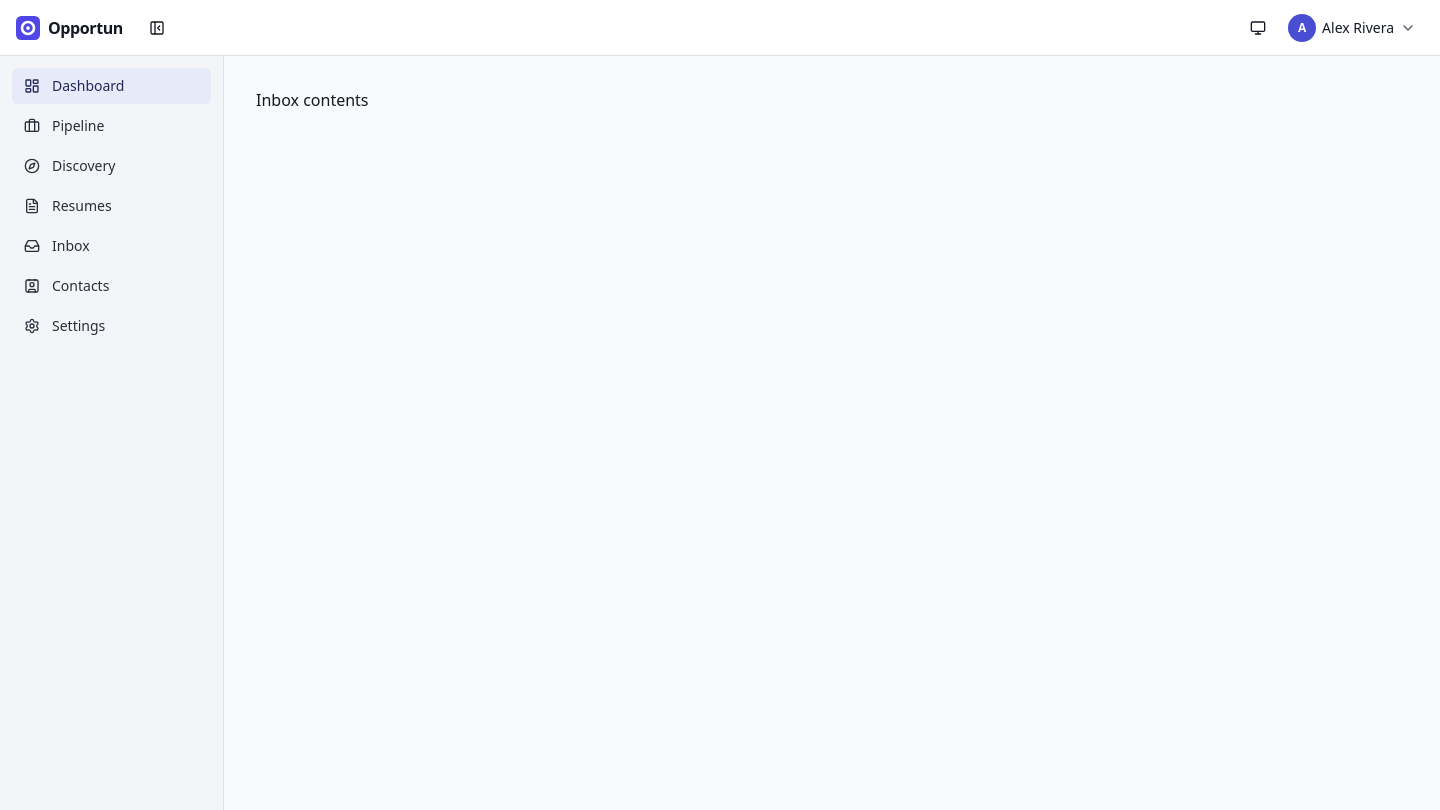
it: AppShell account menu sign-out (issue #151) › stays signed in and says so, rather than leaving for a logout the server never confirmed
Expected: the navigation bar named "Main" is shown, [0, 56, 224, 809]
Click the button with aria-label "Account:". click: coordinates (1352, 28)
box: [1280, 10, 1424, 46]
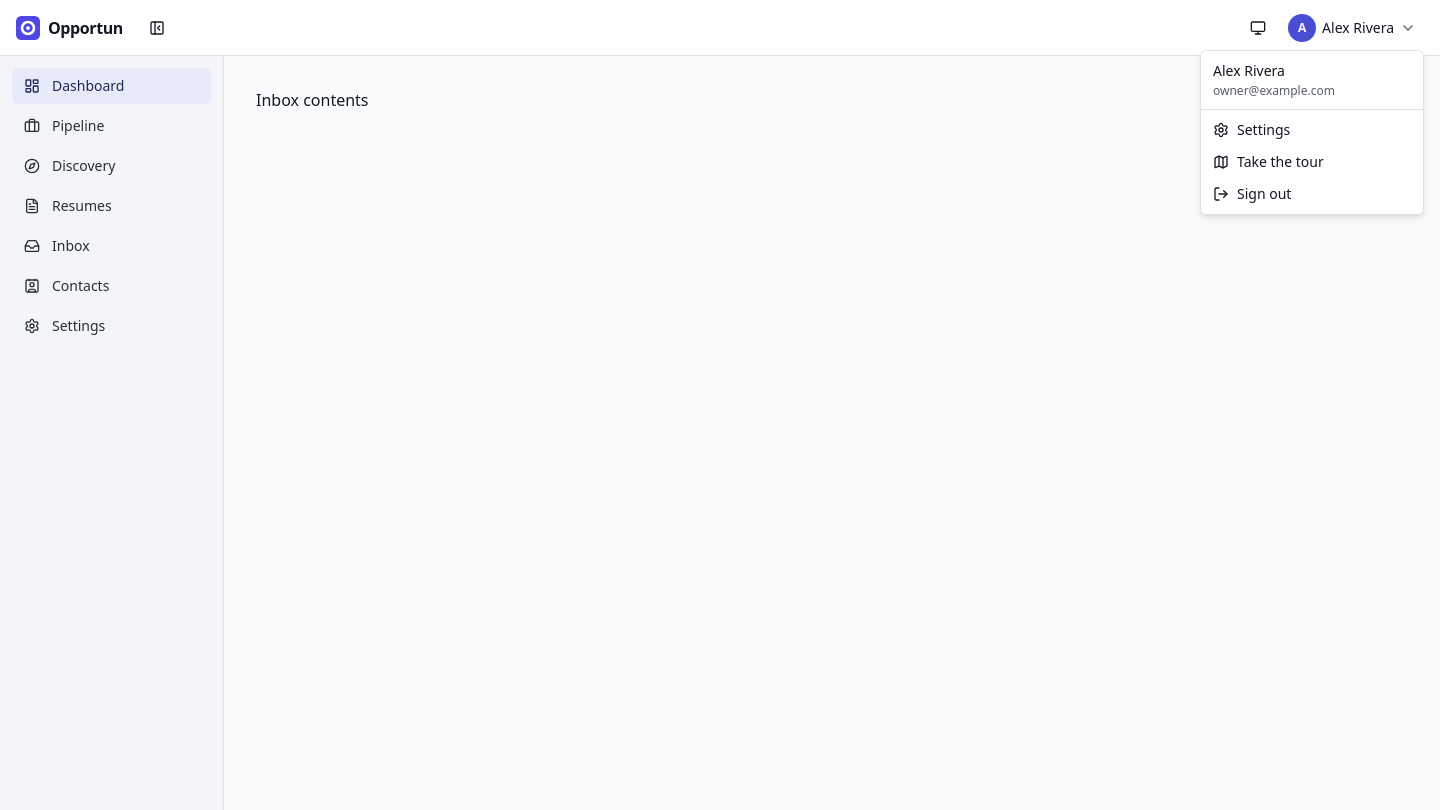
Click the menu item "Sign out". click: coordinates (1252, 194)
box: [1213, 184, 1291, 203]
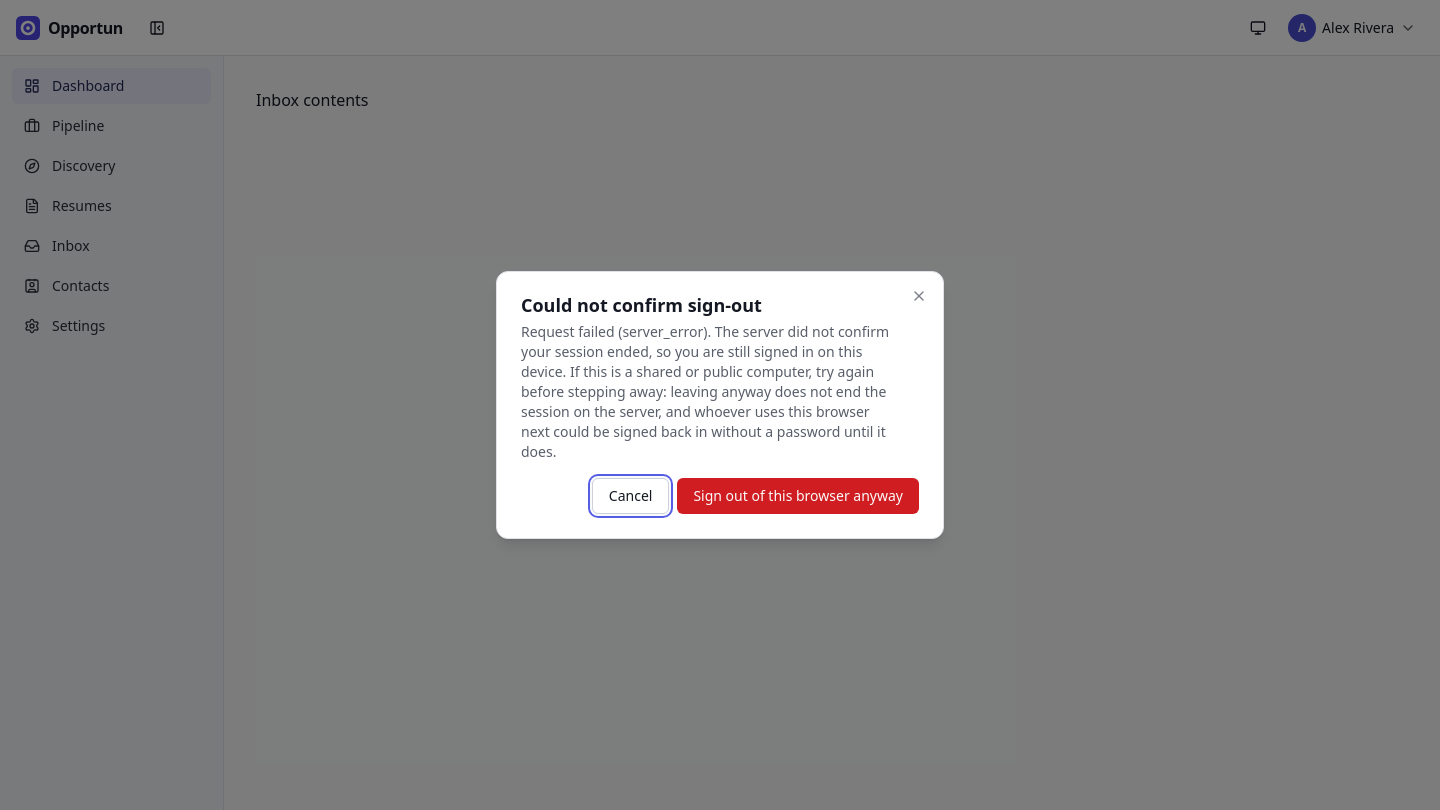
Now the dialog "Could not confirm sign-out" shows "still signed in on this device", box [521, 322, 889, 461]
